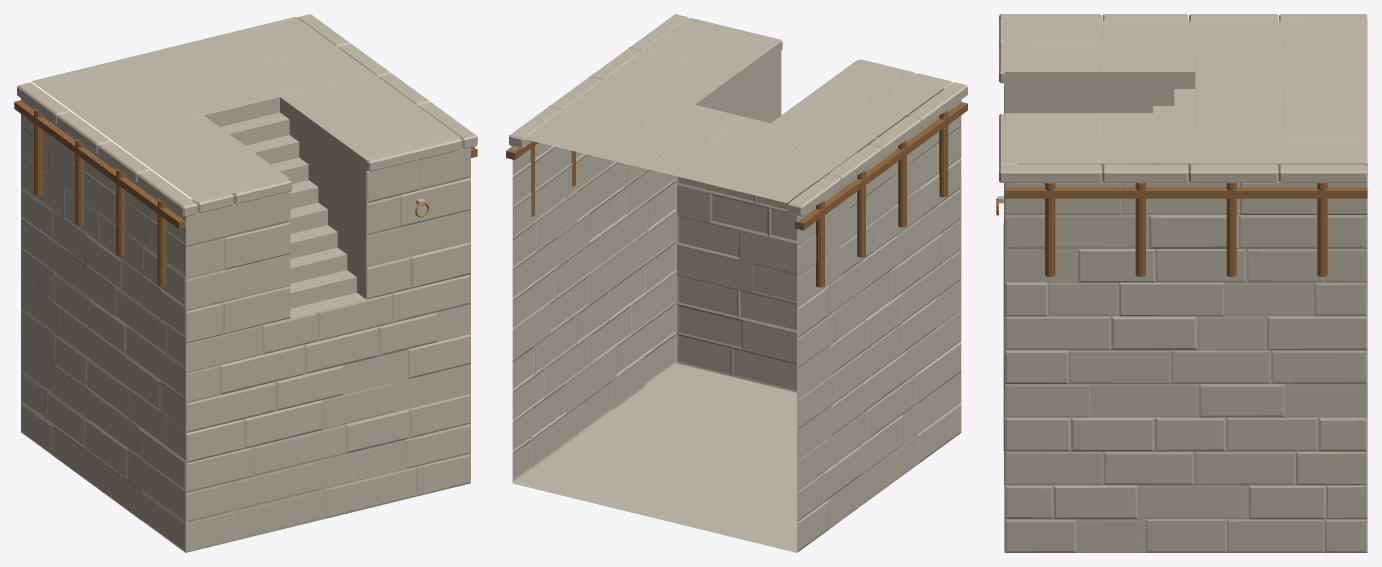
File: quay_head.glb
3 views of the same model, side by side, from view 1: azimuth 30°, elevation 25°; view 2: azimuth 150°, elevation 25°; view 3: azimuth 270°, elevation 25° (orthographic). The views are drawn at different scales.
Parts seen in each view (by area): view 1: quay_head; view 2: quay_head; view 3: quay_head.
Part boxes in pixels (bbox=[...]): quay_head: bbox=[14, 14, 477, 552]; quay_head: bbox=[506, 14, 967, 552]; quay_head: bbox=[996, 14, 1367, 552].
Bounding box in the file's own units: 6.28 × 7 × 6.14.
